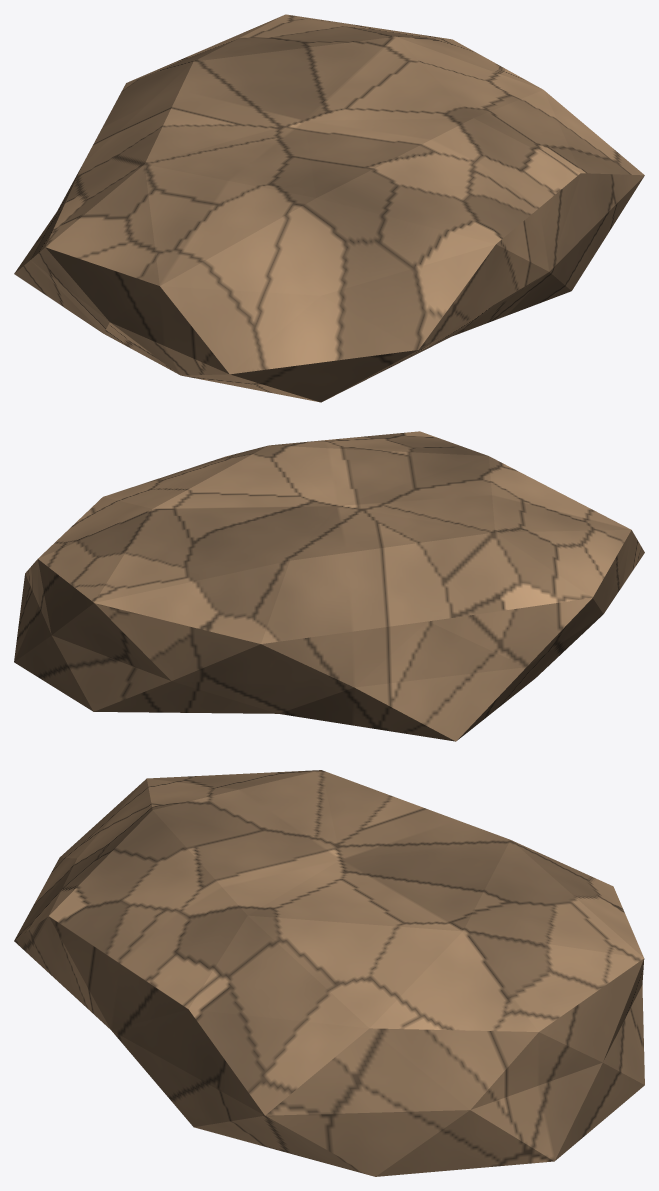
Rendered from Rock_S2.glb.
The picture shows the model from 3 angles, top to bottom: view 1: azimuth 30°, elevation 25°; view 2: azimuth 150°, elevation 25°; view 3: azimuth 270°, elevation 25°; orthographic projection. The views are drawn at different scales.
Parts seen in each view (by area): view 1: Rock_S2; view 2: Rock_S2; view 3: Rock_S2.
Boxes of the visible parts, x1,y1,x2,y2 form: Rock_S2: (14, 14, 644, 402); Rock_S2: (14, 431, 644, 741); Rock_S2: (14, 770, 644, 1176).
Size of the model in its own units: 0.8857 by 0.2553 by 0.8141.
Materials: 1 (1 with a texture image).
